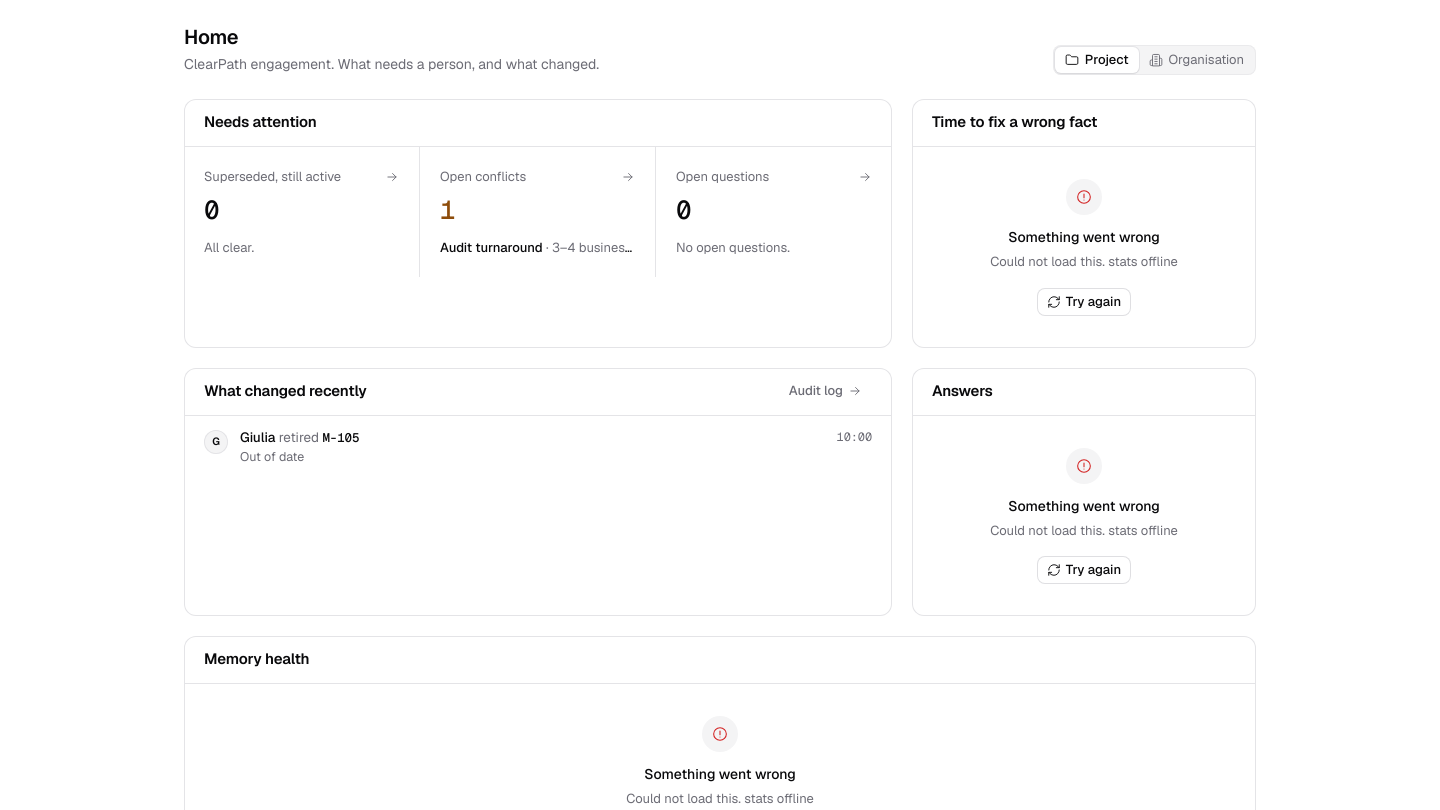
Scenario: Dashboard › cards › shows the error with a retry in place of the figures when the stats cannot be loaded, and the figures on retry
Check: the text "Could not load this. stats offline" is shown 3 times, box [990, 253, 1178, 270]; [990, 522, 1178, 538]; [626, 790, 814, 807]
What coordinates should you click on to do the following:
click the button "Try again" below "Time to fix a wrong fact"
I would click on:
 (1084, 302)
Its box is [1037, 288, 1131, 316].
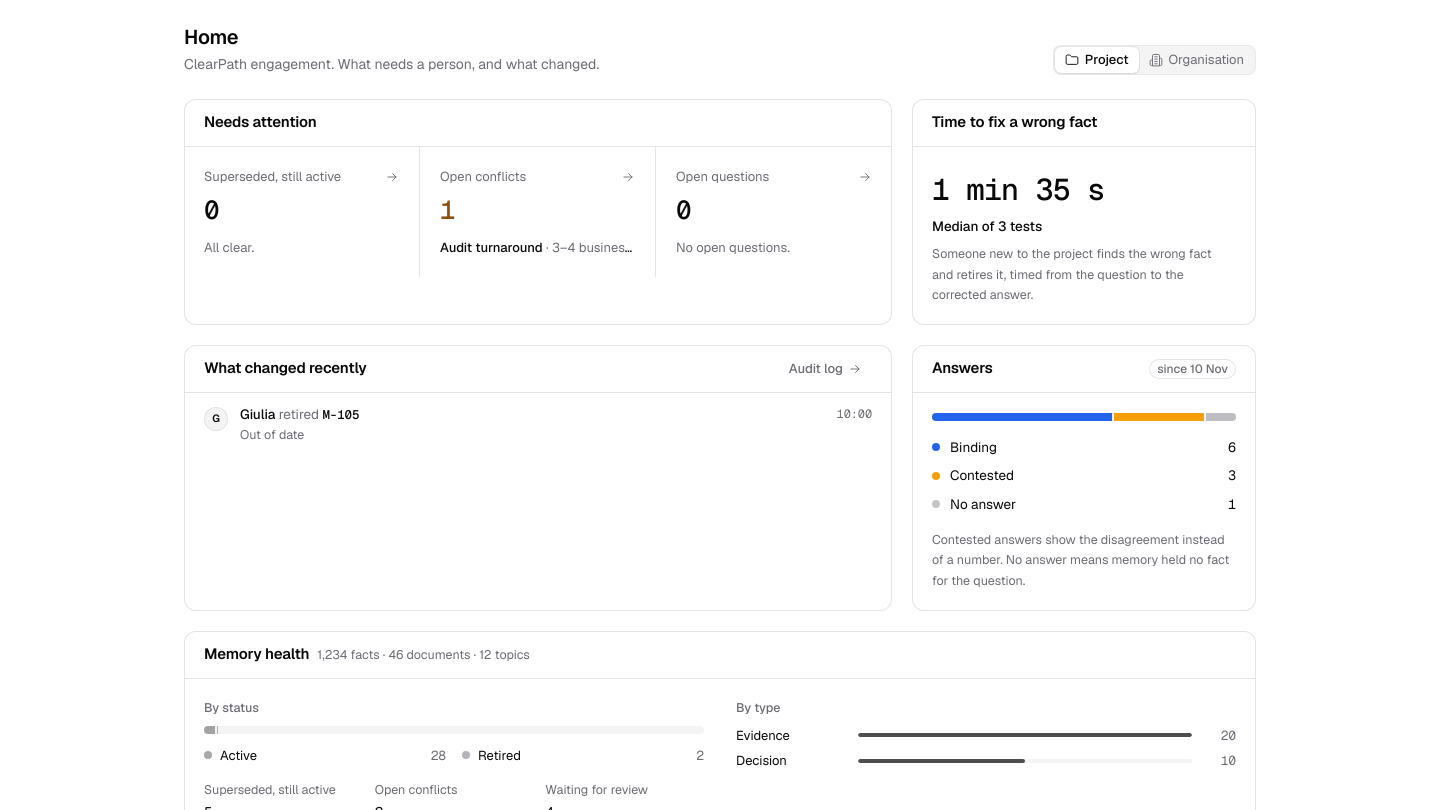
Check: the text "1 min 35 s" is shown, box [932, 170, 1104, 209]
Check: the text "By status" is shown, box [204, 699, 259, 716]
Check: the text "Binding" is shown, box [950, 438, 997, 456]
